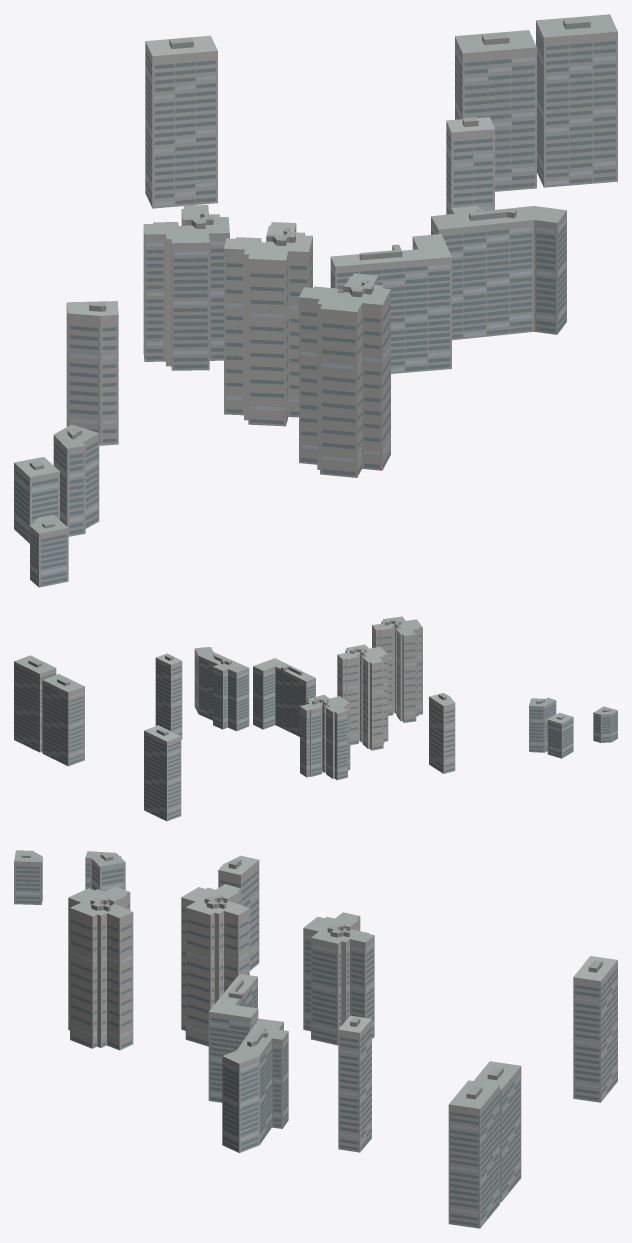
The model's file is apt-a13373301.glb.
3 renders of one model, top to bottom at view 1: azimuth 30°, elevation 25°; view 2: azimuth 150°, elevation 25°; view 3: azimuth 270°, elevation 25°, orthographic. The views are drawn at different scales.
Parts seen in each view (by area): view 1: apt-a13373301; view 2: apt-a13373301; view 3: apt-a13373301.
Boxes of the visible parts, box(x1,y1,x2,y2) form: apt-a13373301: box(14, 14, 617, 587); apt-a13373301: box(14, 616, 617, 821); apt-a13373301: box(14, 850, 617, 1228).
Size of the model in its own units: 400 by 76 by 305.
